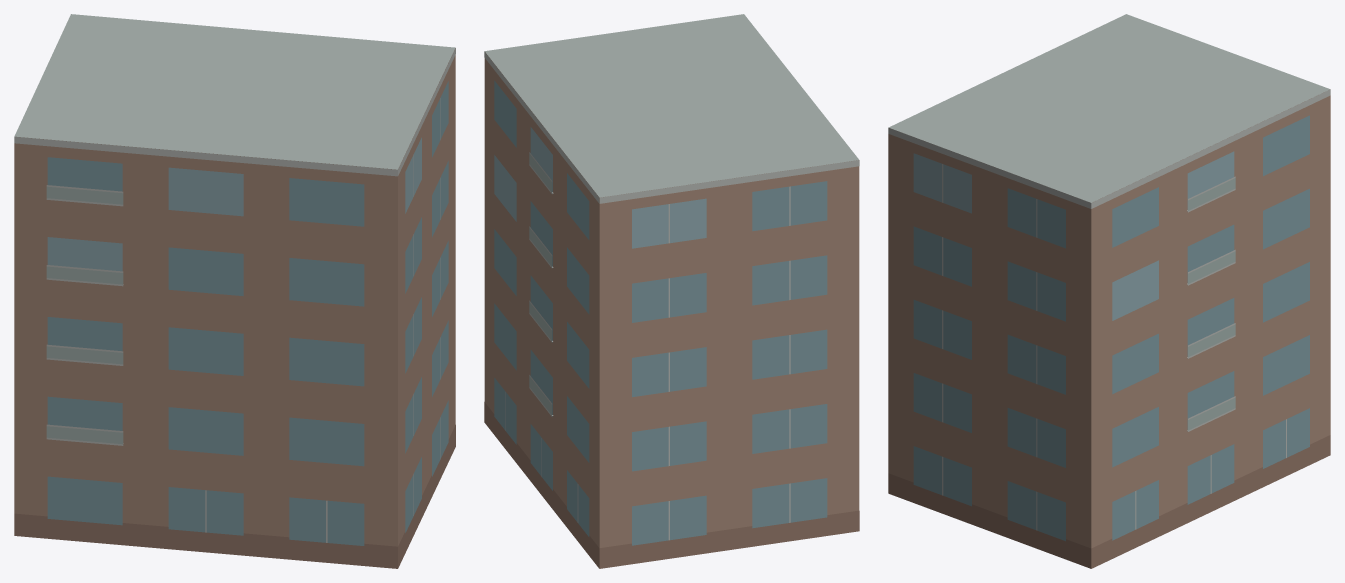
File: survey-upis-32969289.glb
The picture shows the model from 3 angles, left to right: view 1: azimuth 30°, elevation 25°; view 2: azimuth 150°, elevation 25°; view 3: azimuth 270°, elevation 25°; orthographic projection. The views are drawn at different scales.
Visible parts, largest first — view 1: survey-upis-32969289.tmp; view 2: survey-upis-32969289.tmp; view 3: survey-upis-32969289.tmp.
Boxes of the visible parts, bbox=[...] form: survey-upis-32969289.tmp: bbox=[14, 14, 455, 568]; survey-upis-32969289.tmp: bbox=[484, 14, 859, 568]; survey-upis-32969289.tmp: bbox=[888, 14, 1330, 568].
Size of the model in its own units: 15.95 by 14.4 by 15.78.
